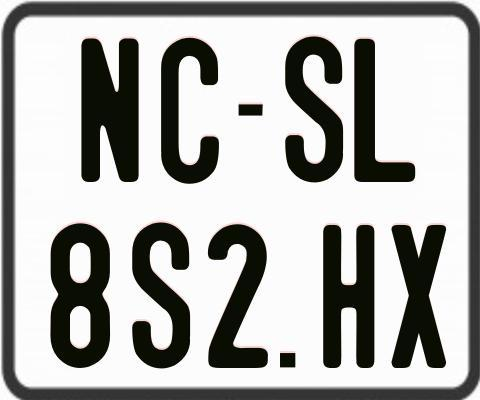2: (205, 221, 268, 371)
8: (47, 222, 112, 371)
C: (159, 35, 219, 185)
H: (321, 222, 378, 367)
L: (353, 37, 416, 181)
N: (78, 35, 139, 184)
S: (131, 219, 193, 370), (283, 36, 344, 187)
X: (392, 222, 446, 368)
